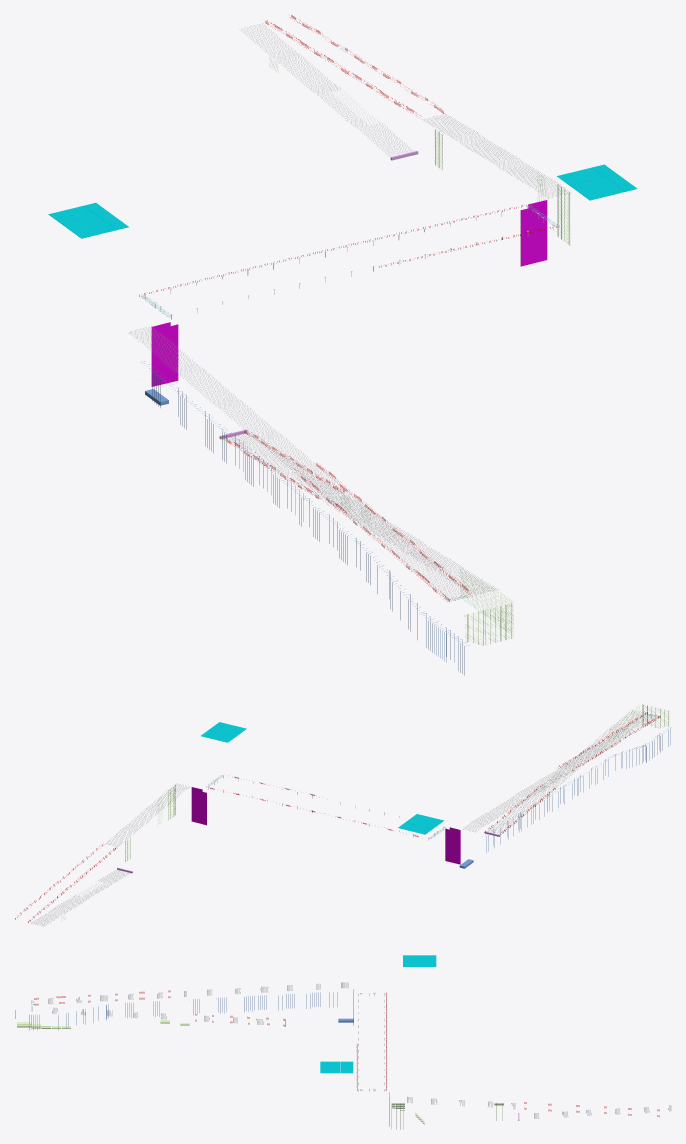
3 views of the same model, one above another, from view 1: azimuth 30°, elevation 25°; view 2: azimuth 150°, elevation 25°; view 3: azimuth 270°, elevation 25° (orthographic). The views are drawn at different scales.
Visible parts, largest first — view 1: 1IEzkf000_QJ4pDpasE34m, 1IEzkf000_RJ4pDpasE34o, 1IEefD0006Rp4pDparDpWp, 1IEefD0006QZ4pDparDpWn, 1IEefD0006W34pDparDpWr, 1IEefD00041Z4pDparDp4n, 1IEJ920003nZ4pDpaqE3Cp, 1I6kU000086J4pDpSrCJ4m, 1I6kU00005tJ4pDpSrC3Kq; view 2: 1IEzkf000_RJ4pDpasE34o, 1IEzkf000_QJ4pDpasE34m, 1IEefD0006Rp4pDparDpWp, 1IEefD0006QZ4pDparDpWn, 1IEefD00041Z4pDparDp4n; view 3: no part large enough to name.
Part boxes in pixels (x1=…): 1IEzkf000_QJ4pDpasE34m: x1=520, y1=200, x2=547, y2=266; 1IEzkf000_RJ4pDpasE34o: x1=151, y1=322, x2=178, y2=386; 1IEefD0006Rp4pDparDpWp: x1=130, y1=326, x2=314, y2=469; 1IEefD0006QZ4pDparDpWn: x1=296, y1=466, x2=472, y2=601; 1IEefD0006W34pDparDpWr: x1=321, y1=494, x2=498, y2=595; 1IEefD00041Z4pDparDp4n: x1=241, y1=23, x2=412, y2=156; 1IEJ920003nZ4pDpaqE3Cp: x1=423, y1=114, x2=570, y2=198; 1I6kU000086J4pDpSrCJ4m: x1=570, y1=174, x2=637, y2=200; 1I6kU00005tJ4pDpSrC3Kq: x1=61, y1=212, x2=128, y2=238; 1IEzkf000_RJ4pDpasE34o: x1=445, y1=827, x2=460, y2=864; 1IEzkf000_QJ4pDpasE34m: x1=191, y1=787, x2=206, y2=825; 1IEefD0006Rp4pDparDpWp: x1=463, y1=770, x2=568, y2=831; 1IEefD0006QZ4pDparDpWn: x1=559, y1=714, x2=659, y2=771; 1IEefD00041Z4pDparDp4n: x1=31, y1=869, x2=130, y2=925.
Bounding box in the file's own units: 56.53 × 16.82 × 133.
